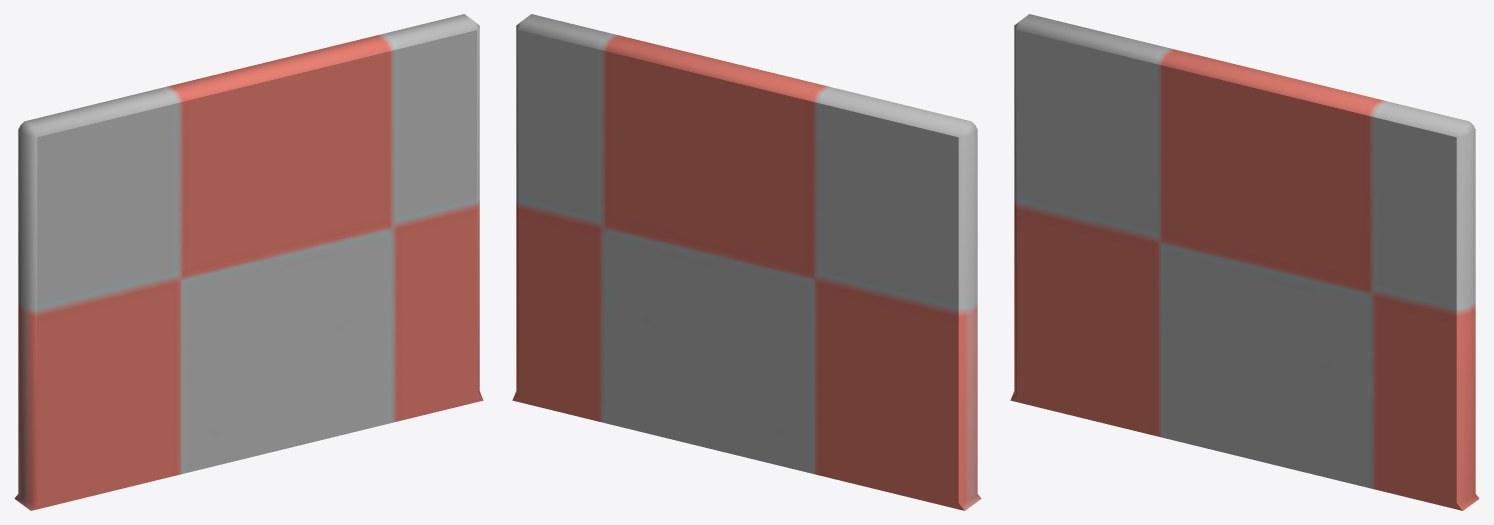
The model's file is machine_door.FBX.
3 renders of one model, left to right at view 1: azimuth 30°, elevation 25°; view 2: azimuth 150°, elevation 25°; view 3: azimuth 330°, elevation 25°, orthographic.
Visible parts, largest first — view 1: machine_door; view 2: machine_door; view 3: machine_door.
Boxes of the visible parts, bbox=[...] form: machine_door: bbox=[14, 14, 483, 510]; machine_door: bbox=[512, 14, 981, 510]; machine_door: bbox=[1010, 14, 1479, 510].
Size of the model in its own units: 180 by 144 by 11.52.
Materials: 1 (1 with a texture image).
